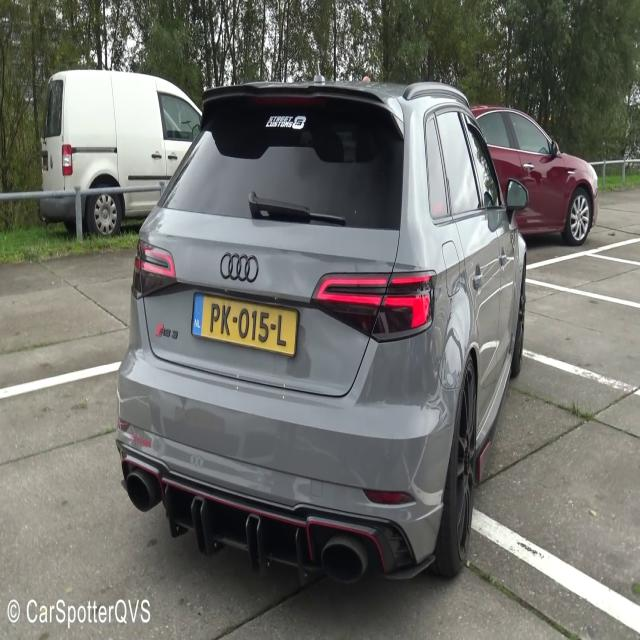number_plate: (192, 288, 300, 353)
